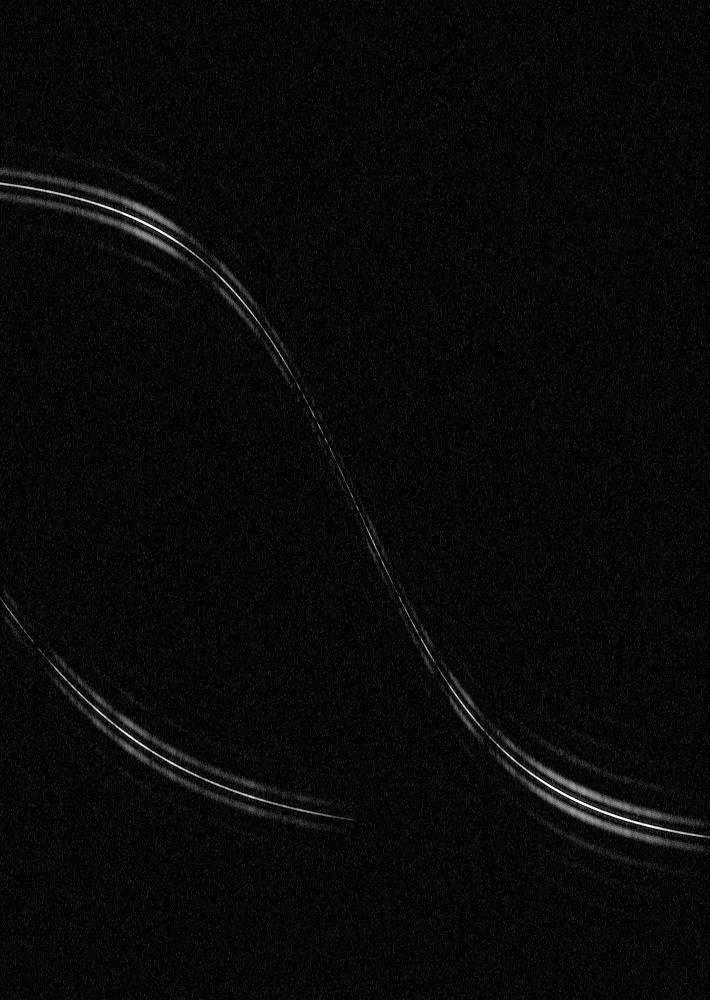signal: (0, 0, 709, 999)
